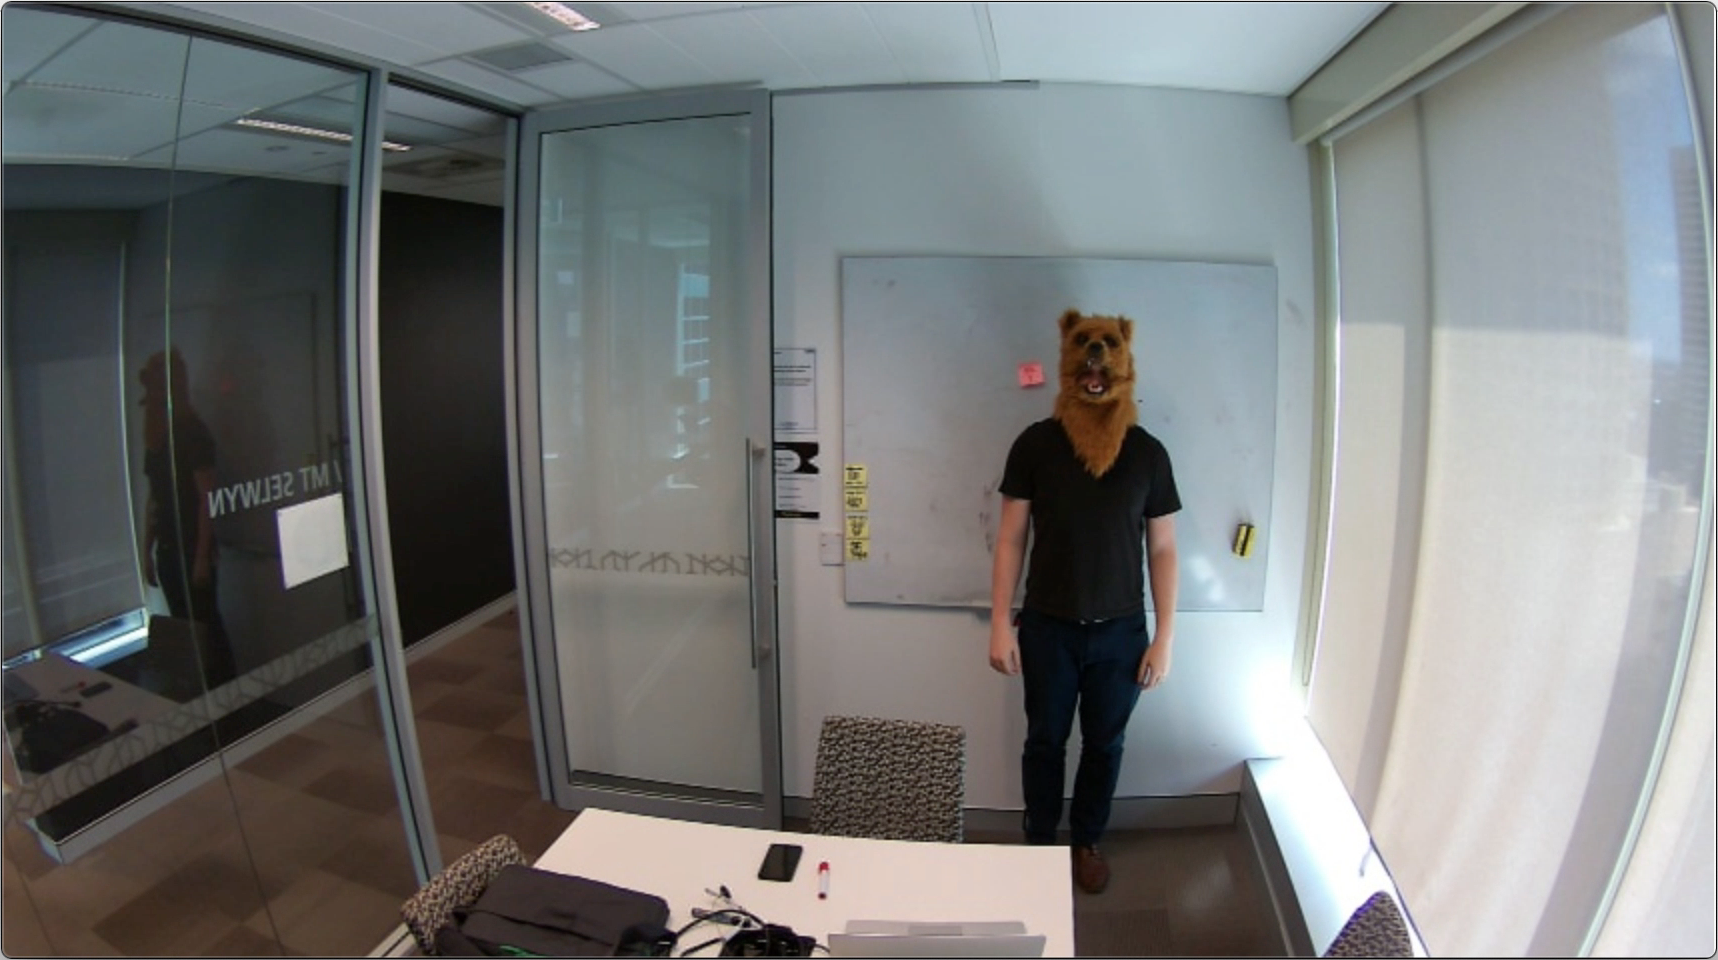Bear: (1053, 304, 1143, 425)
